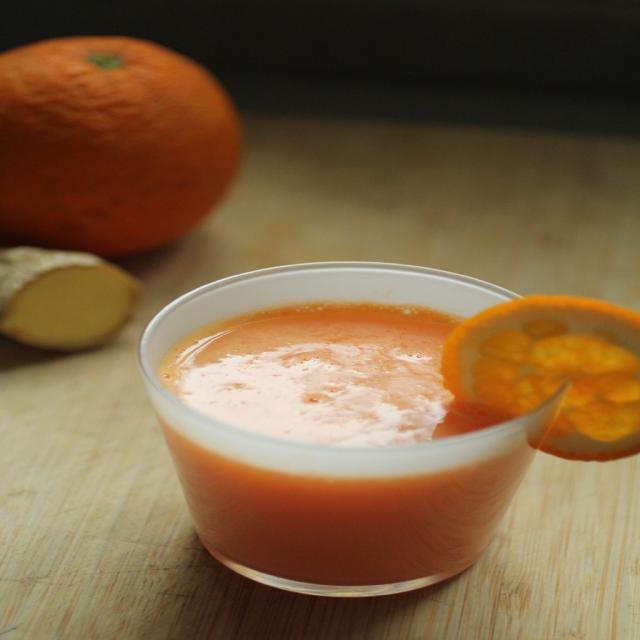Orange: (0, 30, 251, 252), (431, 296, 639, 466)
